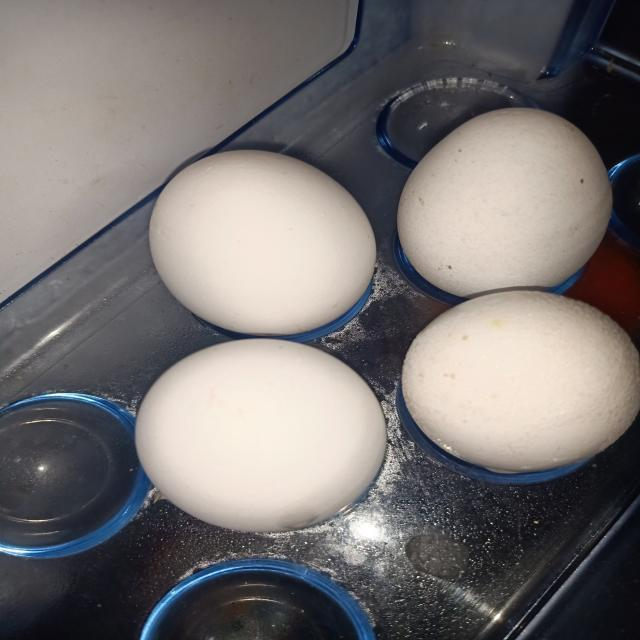Egg: (135, 339, 386, 533), (402, 291, 640, 473), (149, 150, 376, 336), (398, 107, 613, 298)
